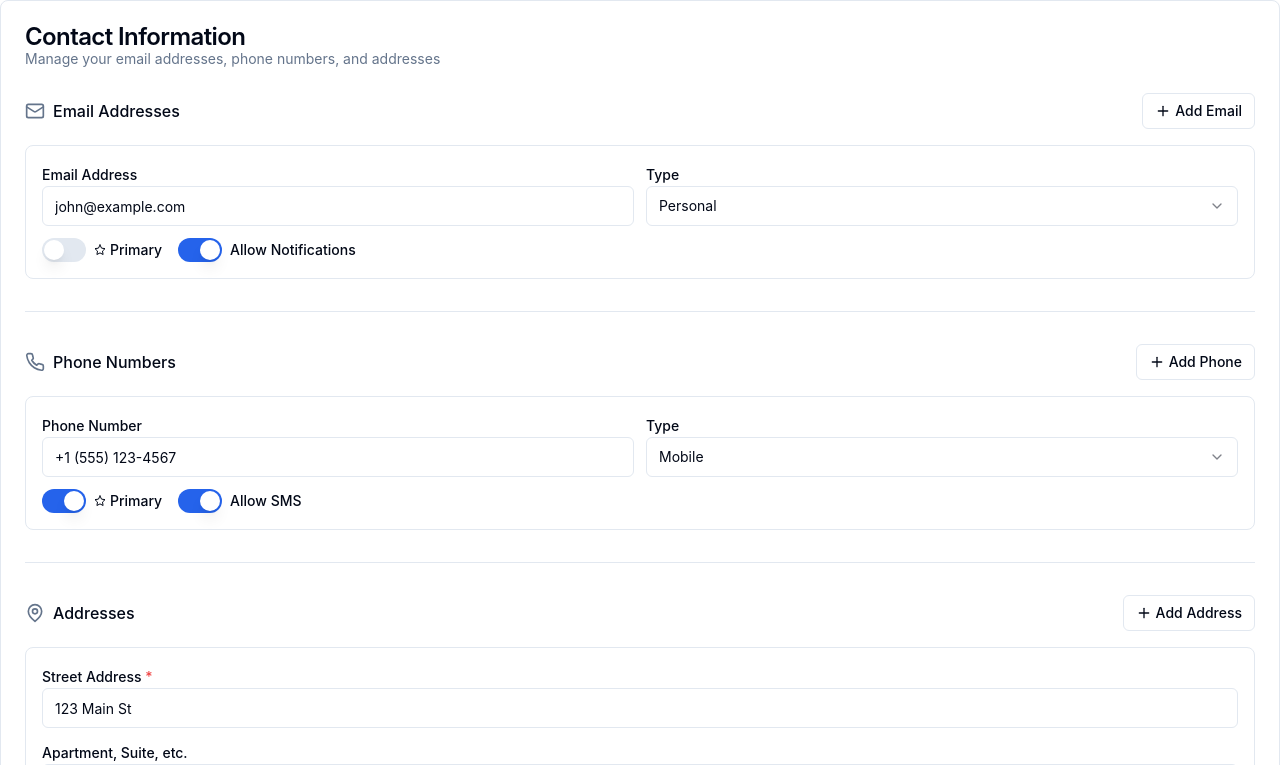
Test: ContactInfoForm › Address Management › should add new address
What coordinates should you click on to do the following:
click the button "Add Address"
I would click on:
 (1189, 613)
Its box is [1123,595,1255,631].
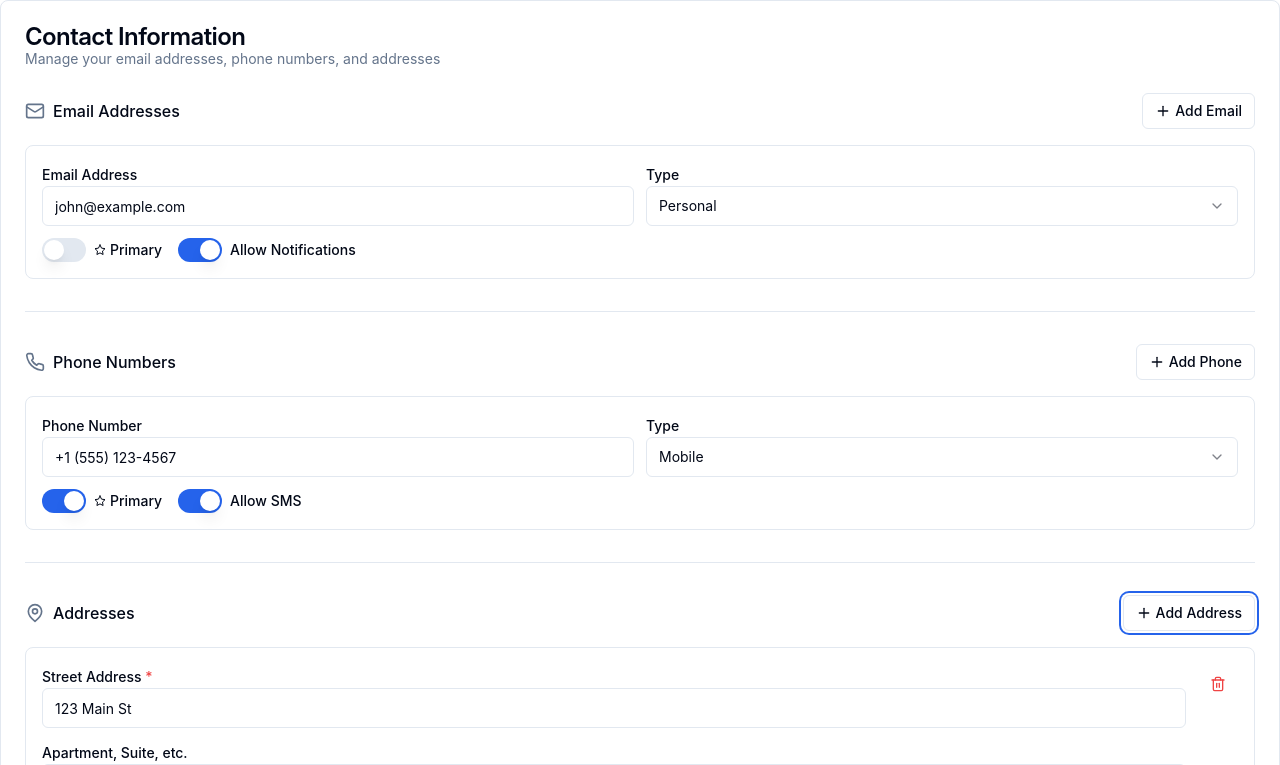
Expected: the number of fields labelled "Street Address *" is 2
